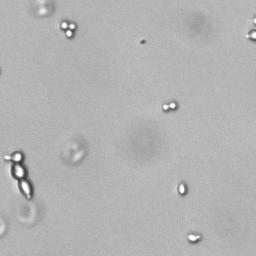budding: (59, 20, 78, 40), (162, 101, 177, 112), (244, 28, 256, 41), (187, 233, 201, 242)
cluster: (2, 148, 36, 203)
individual: (176, 181, 187, 196)
